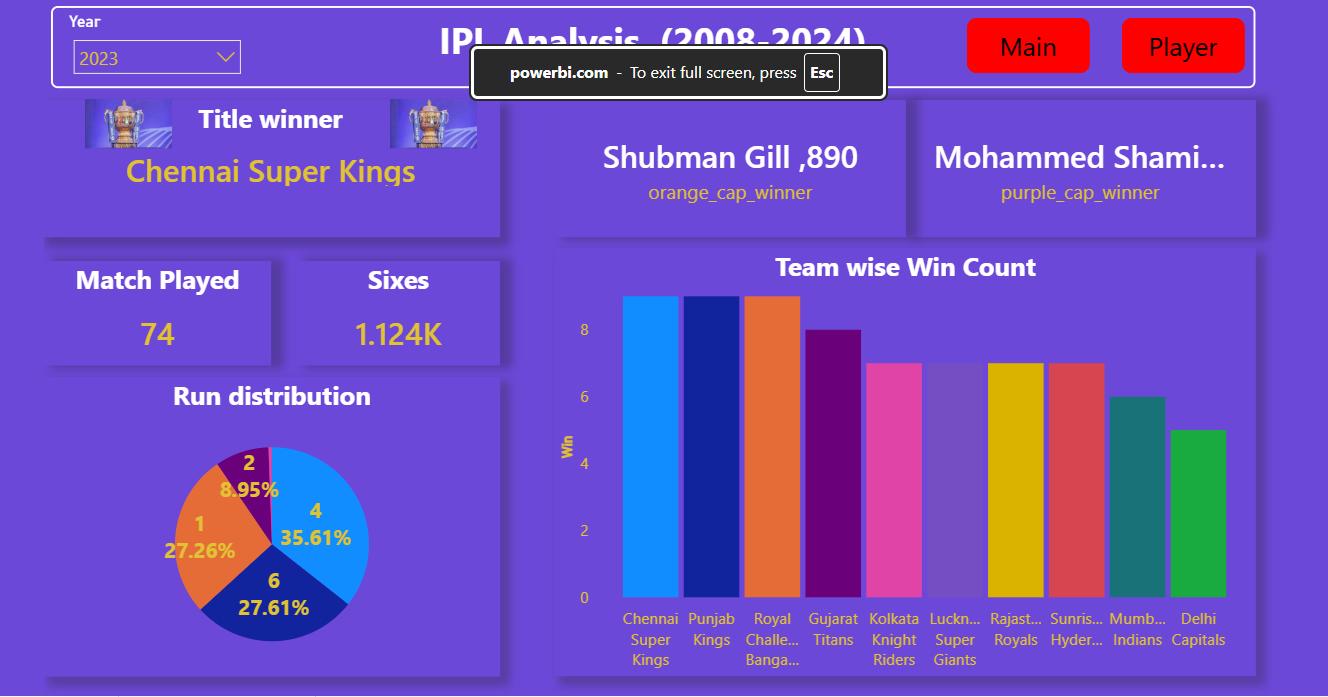

This screenshot's page, from the dashboard's own definition file:
{"tool":"powerbi","page":{"name":"Year","canvas":[1280,720],"ordinal":1},"visuals":[{"type":"cardVisual","title":"purple cap winner","fields":{"Data":["IPL_Matches.puple_cap"]},"box":[891.7,103.3,361.7,141.7],"z":0},{"type":"cardVisual","title":"Title winner","fields":{"Data":["IPL_Matches.season_winner"]},"box":[-3,103.5,475,141.5],"z":0,"group":"g2"},{"type":"image","box":[42.8,74.7,90.2,107.3],"z":1000,"group":"g2"},{"type":"cardVisual","title":"purple cap winner","fields":{"Data":["IPL_Matches.orange_cap_winner"]},"box":[528.3,103.3,363.3,141.7],"z":1000},{"type":"columnChart","title":"Team wise Win Count","fields":{"Category":["IPL_Matches.team1"],"Y":["CountNonNull(IPL_Matches.winner)"],"Series":["IPL_Matches.team1"]},"box":[528.3,256.7,725,443.3],"z":2000},{"type":"textbox","box":[7.5,6,1245.8,85.1],"z":3000,"group":"g1"},{"type":"cardVisual","title":"Match Played","fields":{"Data":["Count(IPL_Matches.id)"]},"box":[0,270,235,108.3],"z":3000},{"type":"cardVisual","title":"Sixes","fields":{"Data":["IPL_Matches.Sixes"]},"box":[261.7,270,210,108.3],"z":4000},{"type":"actionButton","box":[1115,18.4,126.7,56.7],"z":5000,"group":"g1"},{"type":"pieChart","title":"Run distribution","fields":{"Category":["deliveries.batsman_runs"],"Y":["Sum(deliveries.batsman_runs)"]},"box":[0,390,471.7,310],"z":5000},{"type":"group","id":"g1","title":"Group 3","box":[7.5,6,1245.8,85.1],"z":6000},{"type":"actionButton","box":[955,18.4,126.7,56.7],"z":6000,"group":"g1"},{"type":"group","id":"g2","title":"Group 1","box":[-3,74.7,475,170.3],"z":7000},{"type":"image","box":[358.5,74.7,90.2,107.3],"z":7001,"group":"g2"},{"type":"slicer","title":"Year","fields":{"Values":["IPL_Matches.season"]},"box":[20.9,12,192.7,74.7],"z":10002,"group":"g1"}]}

Visuals, with their boxes on the page's 1280x720 design canvas (x1, y1, x2, y2). These are canvas units, not pixel positions in the 1328x697 screenshot, which may show the page scaled, cropped or inside an application window:
"purple cap winner" cardVisual: bbox=[892, 103, 1253, 245]
"Title winner" cardVisual: bbox=[-3, 104, 472, 245]
image: bbox=[43, 75, 133, 182]
"purple cap winner" cardVisual: bbox=[528, 103, 892, 245]
"Team wise Win Count" columnChart: bbox=[528, 257, 1253, 700]
textbox: bbox=[8, 6, 1253, 91]
"Match Played" cardVisual: bbox=[0, 270, 235, 378]
"Sixes" cardVisual: bbox=[262, 270, 472, 378]
actionButton: bbox=[1115, 18, 1242, 75]
"Run distribution" pieChart: bbox=[0, 390, 472, 700]
"Group 3" group: bbox=[8, 6, 1253, 91]
actionButton: bbox=[955, 18, 1082, 75]
"Group 1" group: bbox=[-3, 75, 472, 245]
image: bbox=[358, 75, 449, 182]
"Year" slicer: bbox=[21, 12, 214, 87]
